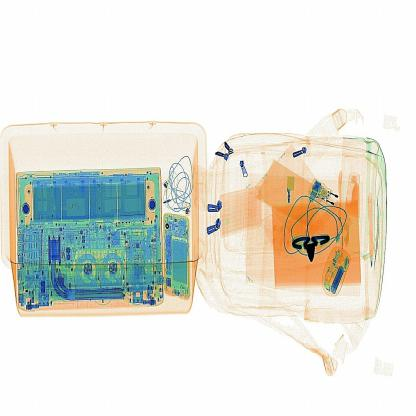gun: (282, 218, 330, 264)
